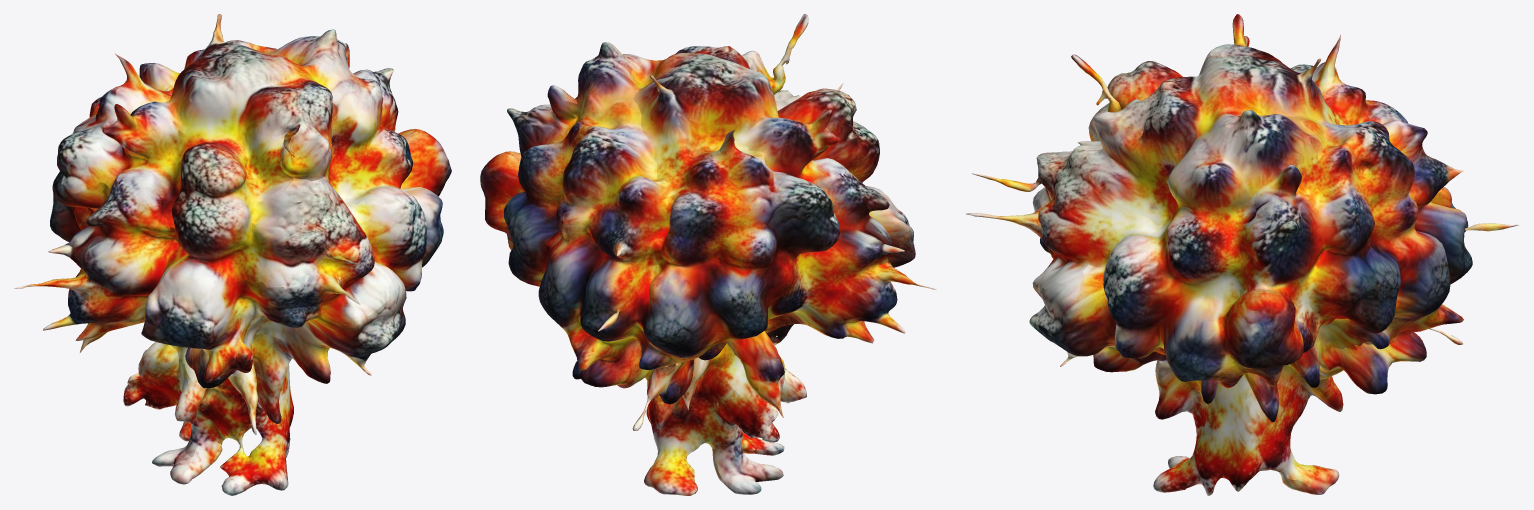
The picture shows the model from 3 angles, left to right: view 1: azimuth 30°, elevation 25°; view 2: azimuth 150°, elevation 25°; view 3: azimuth 270°, elevation 25°; orthographic projection. The views are drawn at different scales.
Visible parts, largest first — view 1: Object_4; view 2: Object_4; view 3: Object_4.
Boxes of the visible parts, bbox=[...] form: Object_4: bbox=[14, 14, 451, 495]; Object_4: bbox=[480, 14, 936, 495]; Object_4: bbox=[965, 14, 1519, 495].
Bounding box in the file's own units: 0.783 × 0.7002 × 0.8006.
Materials: 1 (1 with a texture image).
